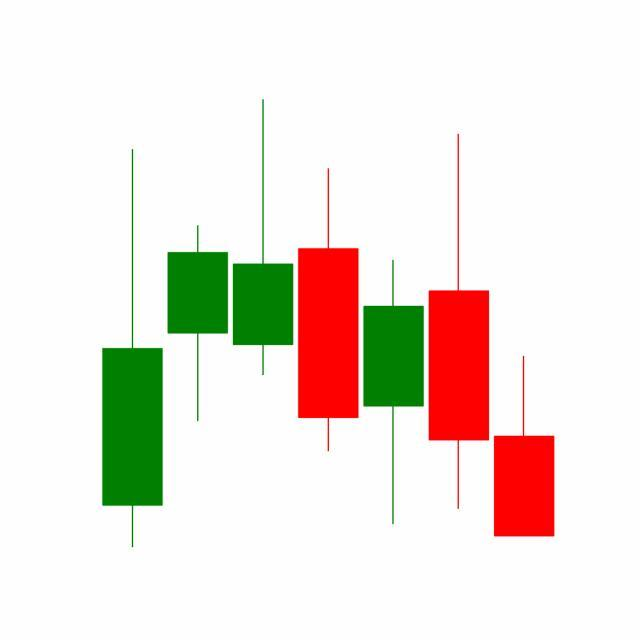Three Outside Up-Down: (360, 130, 556, 541)
